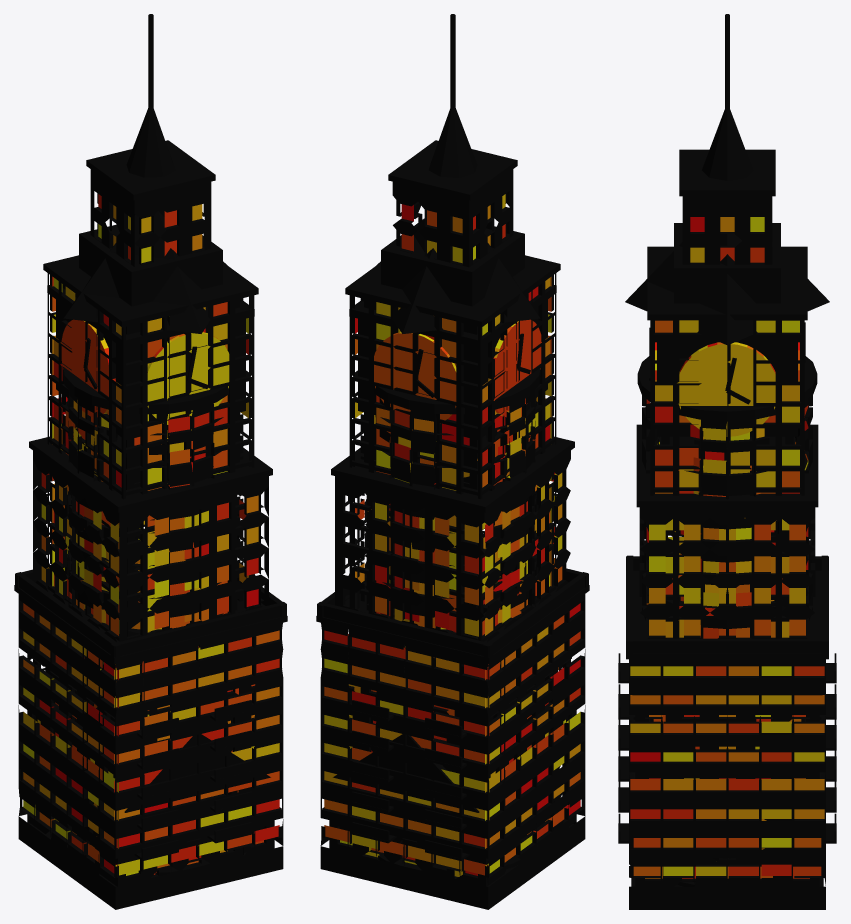
File: city_kit.glb
3 renders of one model, left to right at view 1: azimuth 30°, elevation 25°; view 2: azimuth 150°, elevation 25°; view 3: azimuth 270°, elevation 25°, orthographic.
Visible parts, largest first — view 1: office, deco, glass, clock, round, flats, house; view 2: office, deco, glass, clock, round, flats, house; view 3: office, deco, glass, clock, round, flats.
Part boxes in pixels (x1,y1,x2,y2): office: (14, 565, 287, 909); deco: (29, 14, 272, 862); glass: (43, 208, 258, 858); clock: (30, 211, 254, 886); round: (63, 367, 228, 876); flats: (27, 654, 274, 886); house: (54, 734, 270, 878); office: (316, 568, 589, 909); deco: (331, 14, 574, 862); glass: (345, 218, 560, 809); clock: (349, 220, 573, 886); round: (374, 368, 540, 870); flats: (329, 623, 576, 886); house: (333, 734, 479, 878); office: (626, 555, 828, 909); deco: (636, 14, 818, 866); glass: (647, 223, 807, 885); clock: (625, 234, 829, 886); round: (637, 356, 817, 886); flats: (618, 653, 836, 886).
Size of the model in its own units: 0.96 by 4.4 by 1.02.
